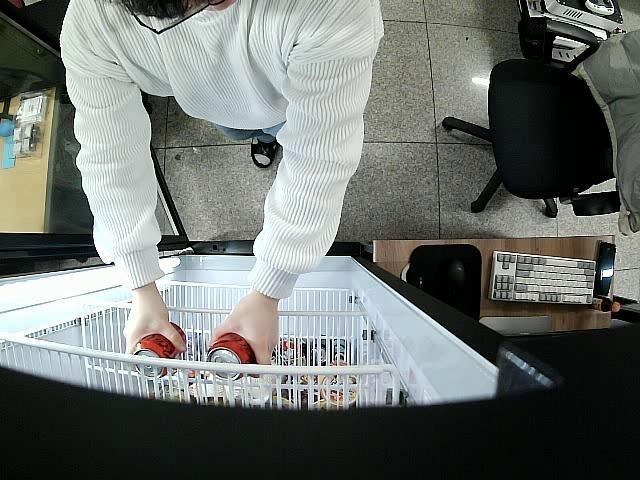11_cocaColaZero: (132, 324, 186, 378), (208, 332, 257, 382)
